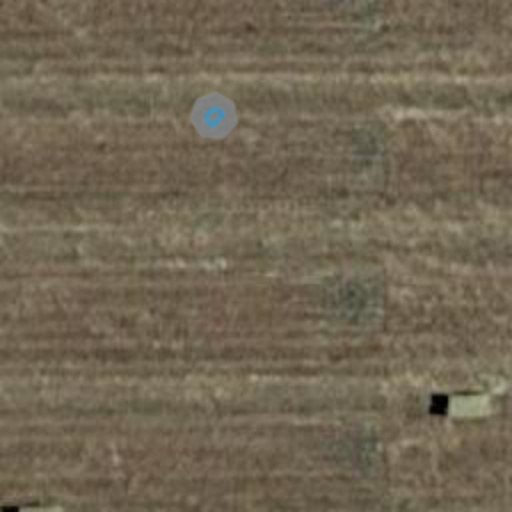heptagon: (178, 80, 250, 152)
